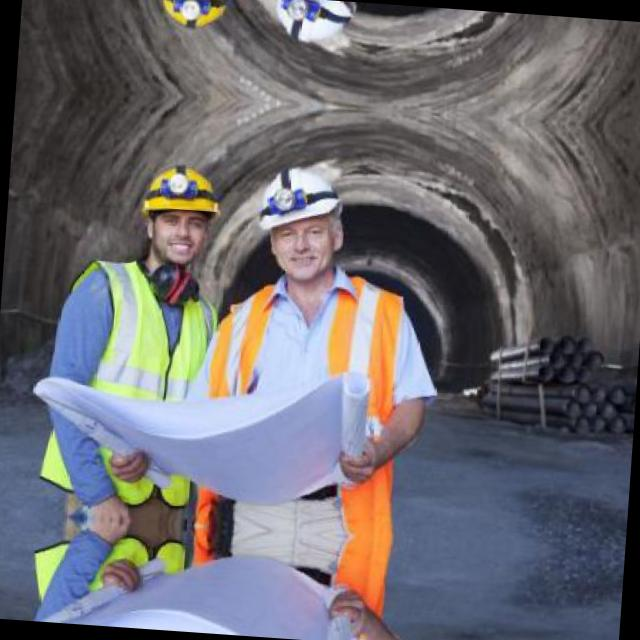helmet: (245, 156, 352, 290), (128, 158, 228, 278), (262, 0, 365, 54), (144, 0, 239, 36)
